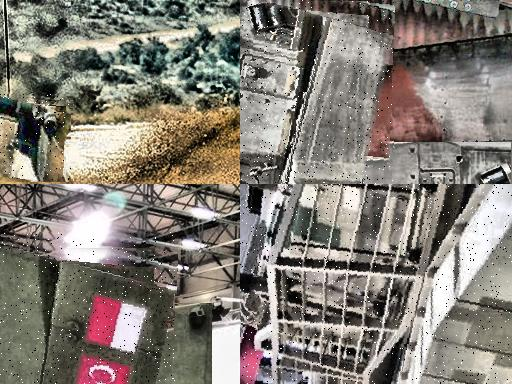tanks: (262, 185, 512, 384), (241, 1, 395, 185), (1, 243, 177, 384), (1, 96, 73, 183)
